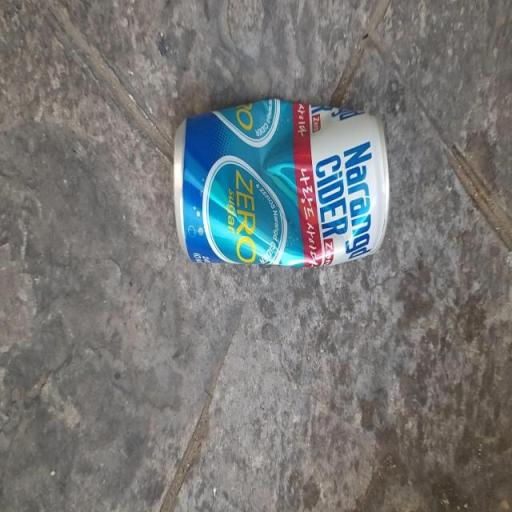metal: (158, 78, 398, 312)
